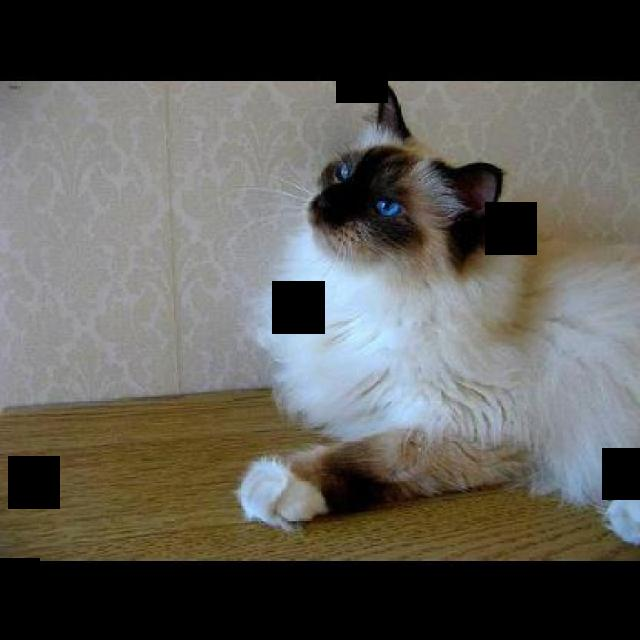unauthorized: (232, 82, 638, 549)
